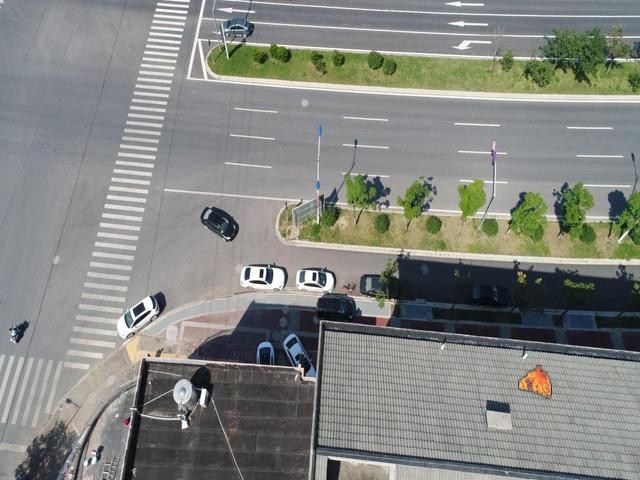fire: (519, 366, 550, 397)
